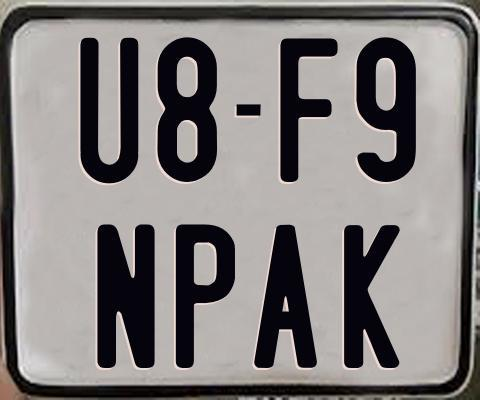8: (157, 34, 223, 184)
9: (356, 36, 419, 186)
A: (251, 222, 316, 365)
F: (280, 35, 339, 182)
K: (341, 224, 399, 372)
N: (96, 221, 158, 371)
P: (176, 223, 235, 369)
U: (79, 35, 141, 186)
